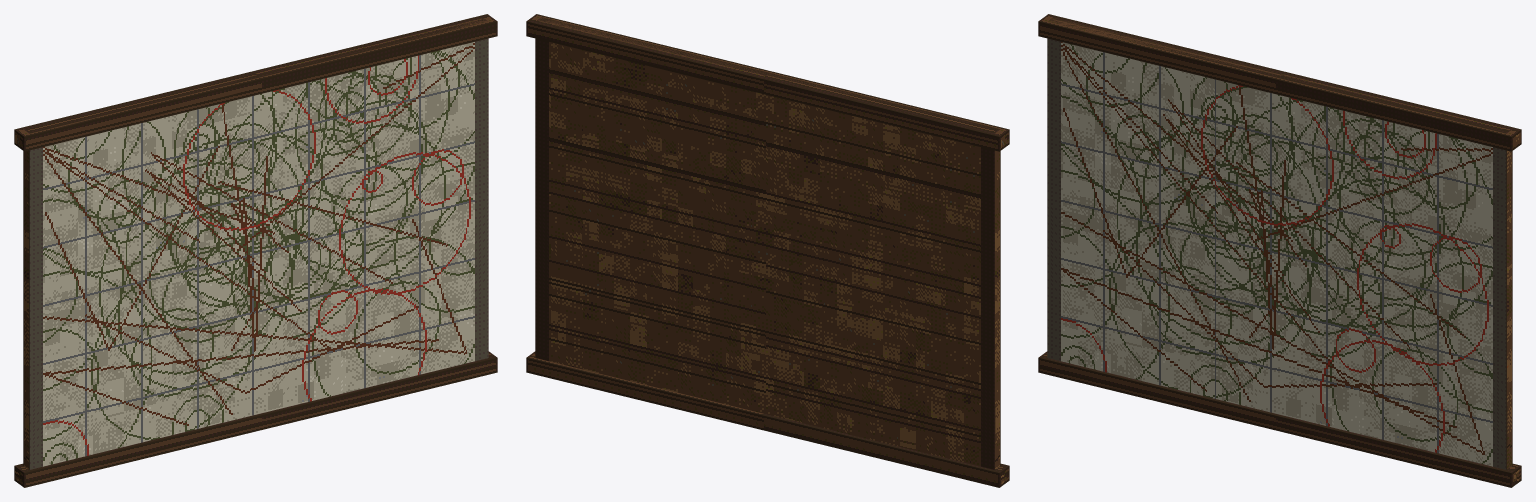
Rendered from SM_Map_Wall_01.glb.
3 views of the same model, side by side, from view 1: azimuth 30°, elevation 25°; view 2: azimuth 150°, elevation 25°; view 3: azimuth 330°, elevation 25° (orthographic).
Parts seen in each view (by area): view 1: SM_Map_Wall_01; view 2: SM_Map_Wall_01; view 3: SM_Map_Wall_01.
Boxes of the visible parts, x1,y1,x2,y2 form: SM_Map_Wall_01: (14, 14, 497, 487); SM_Map_Wall_01: (526, 14, 1009, 487); SM_Map_Wall_01: (1038, 14, 1521, 487).
Size of the model in its own units: 1.34 by 0.95 by 0.05.
1 material, 1 textured.
